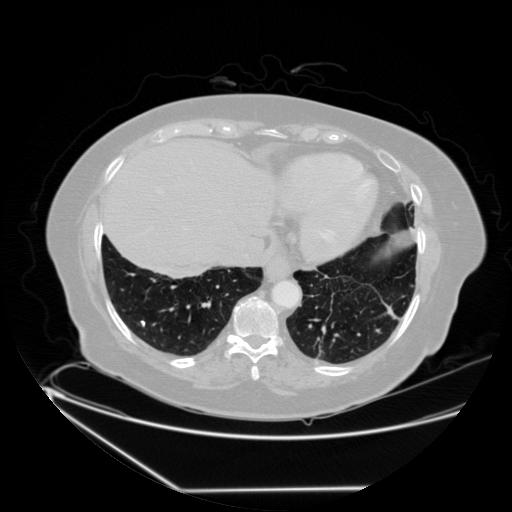nodule: (137, 318, 147, 328)
